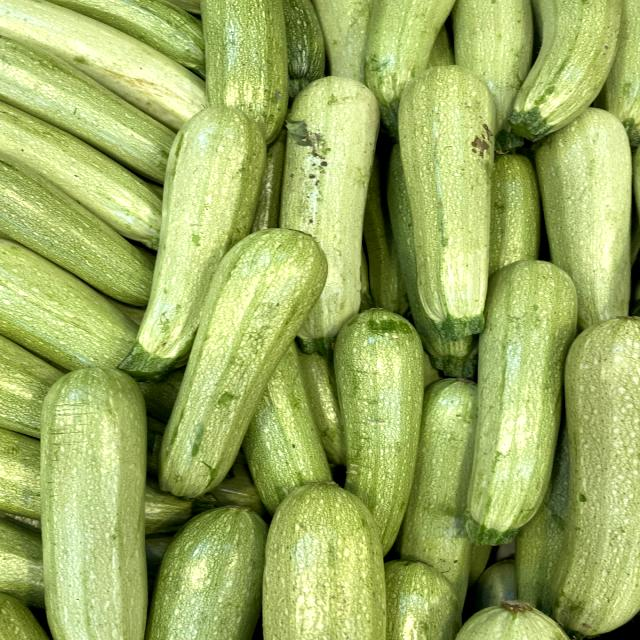zucchini: (142, 217, 346, 506), (444, 252, 599, 557), (384, 59, 523, 368), (36, 354, 161, 640)
